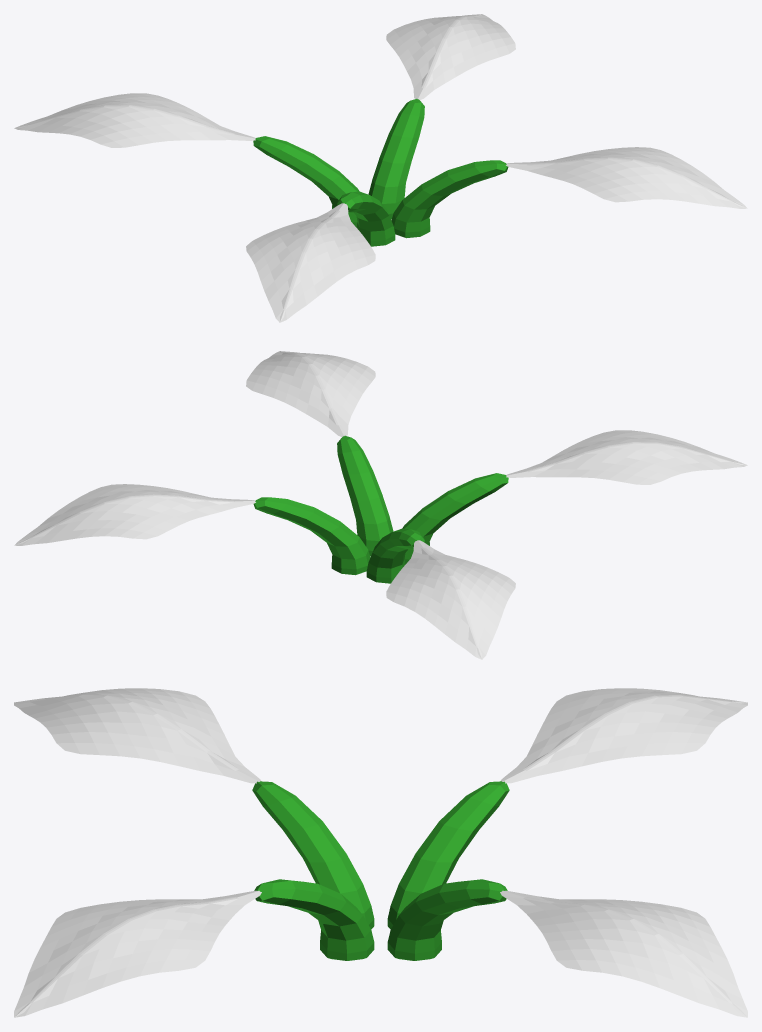
File: cropState1.fbx
3 views of the same model, one above another, from view 1: azimuth 30°, elevation 25°; view 2: azimuth 150°, elevation 25°; view 3: azimuth 270°, elevation 25° (orthographic). The views are drawn at different scales.
Parts seen in each view (by area): view 1: hojas, tallo1; view 2: hojas, tallo1; view 3: hojas, tallo1.
Part boxes in pixels (left/top/right/bottom): hojas: left=14, top=14, right=747, bottom=322; tallo1: left=253, top=98, right=508, bottom=246; hojas: left=14, top=351, right=747, bottom=659; tallo1: left=253, top=435, right=508, bottom=583; hojas: left=14, top=688, right=747, bottom=1017; tallo1: left=252, top=781, right=509, bottom=960.
Bounding box in the file's own units: 203 × 39.3 × 199.
